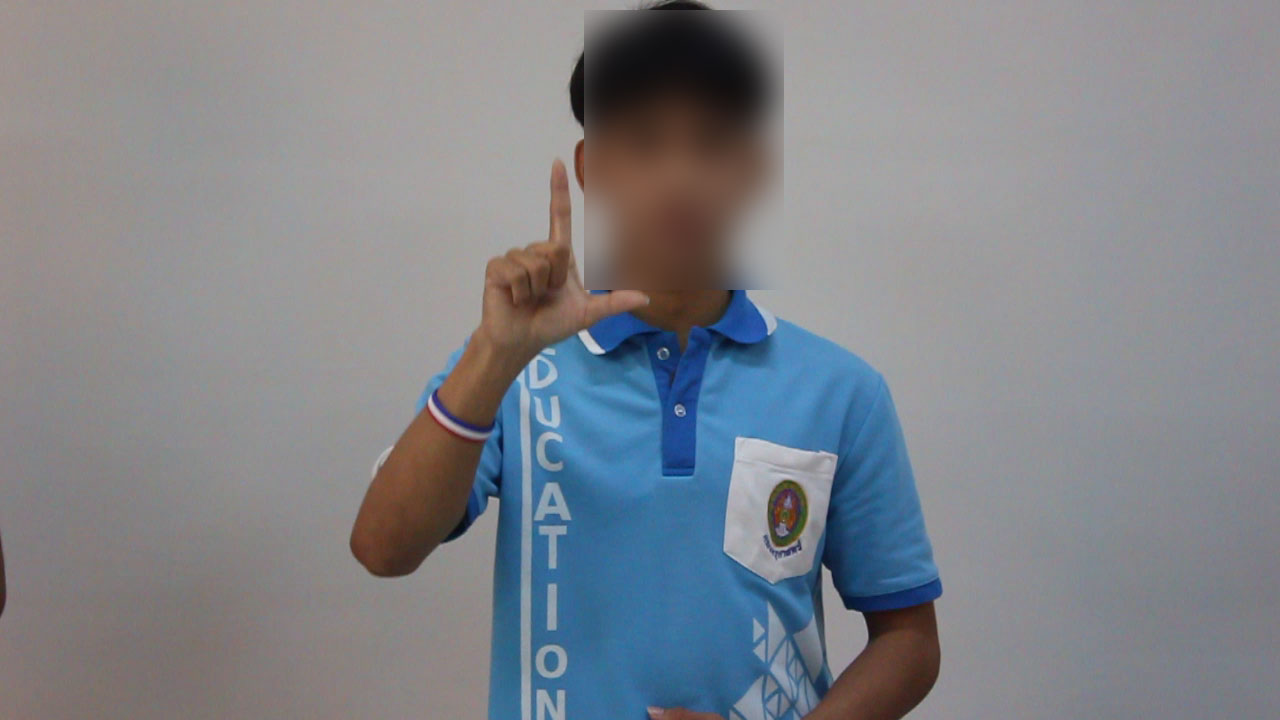lor: (482, 155, 674, 421)
